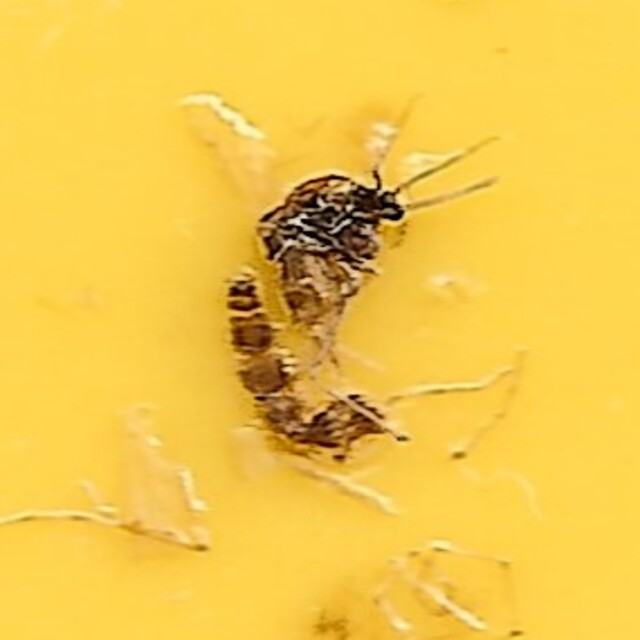Nematocera: (225, 178, 415, 462)
